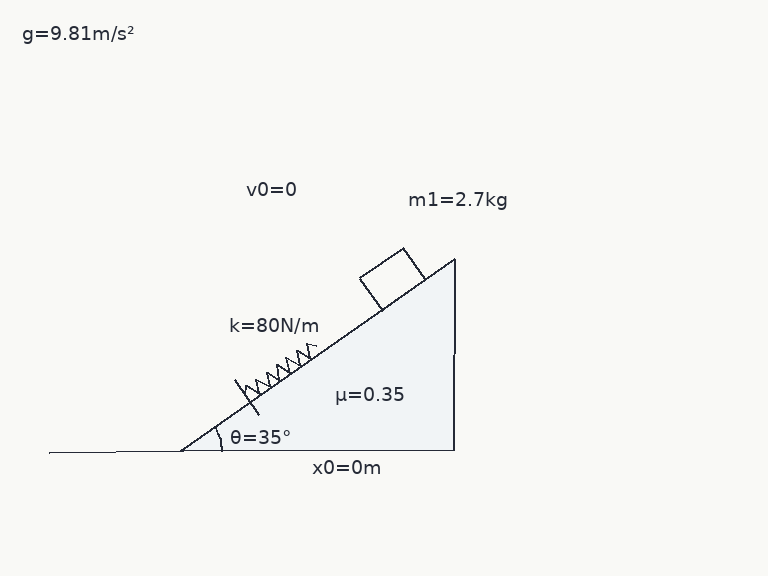block: (357, 246, 427, 312)
ramp: (180, 257, 457, 452)
spring: (243, 341, 318, 397)
